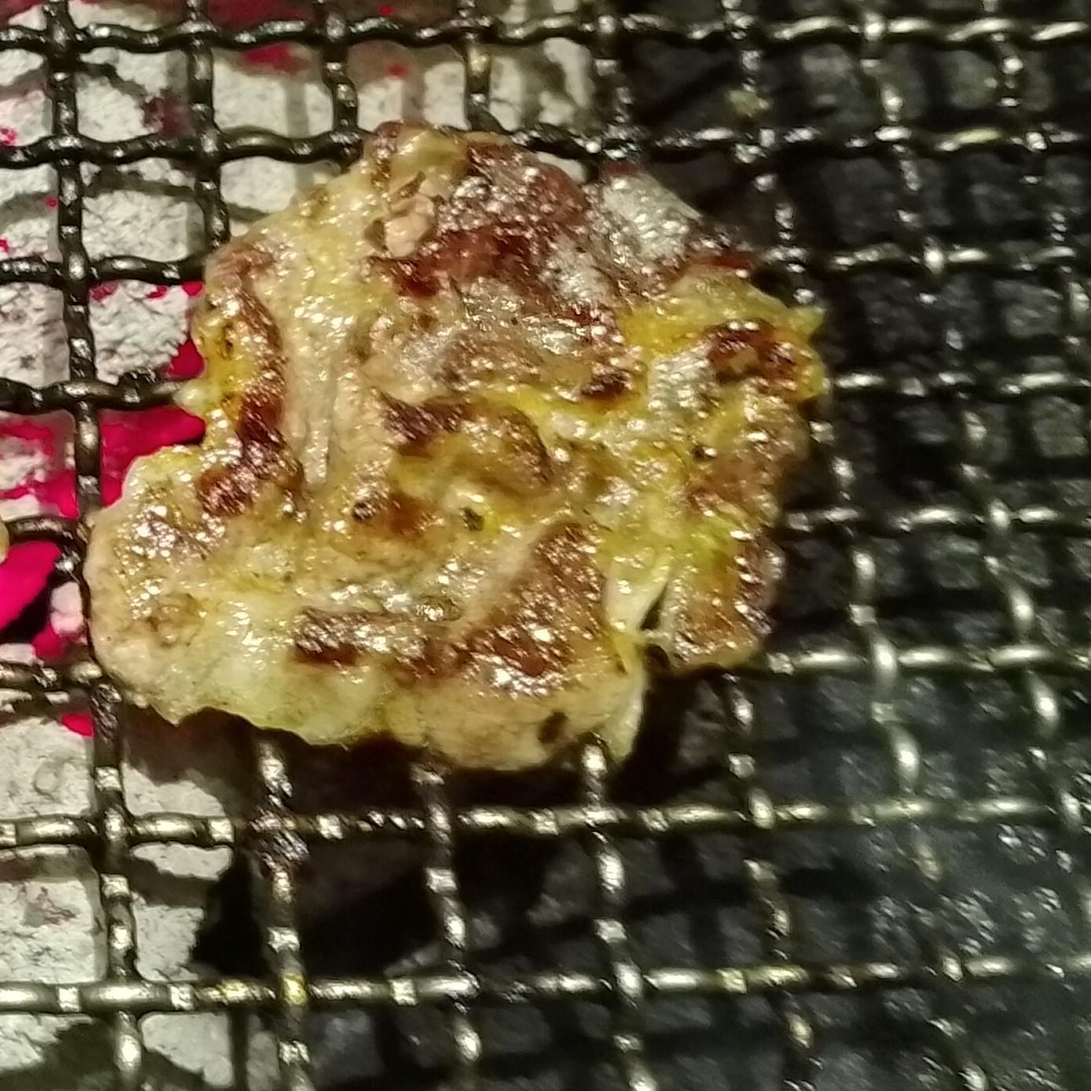Overcooked: (77, 122, 833, 781)
